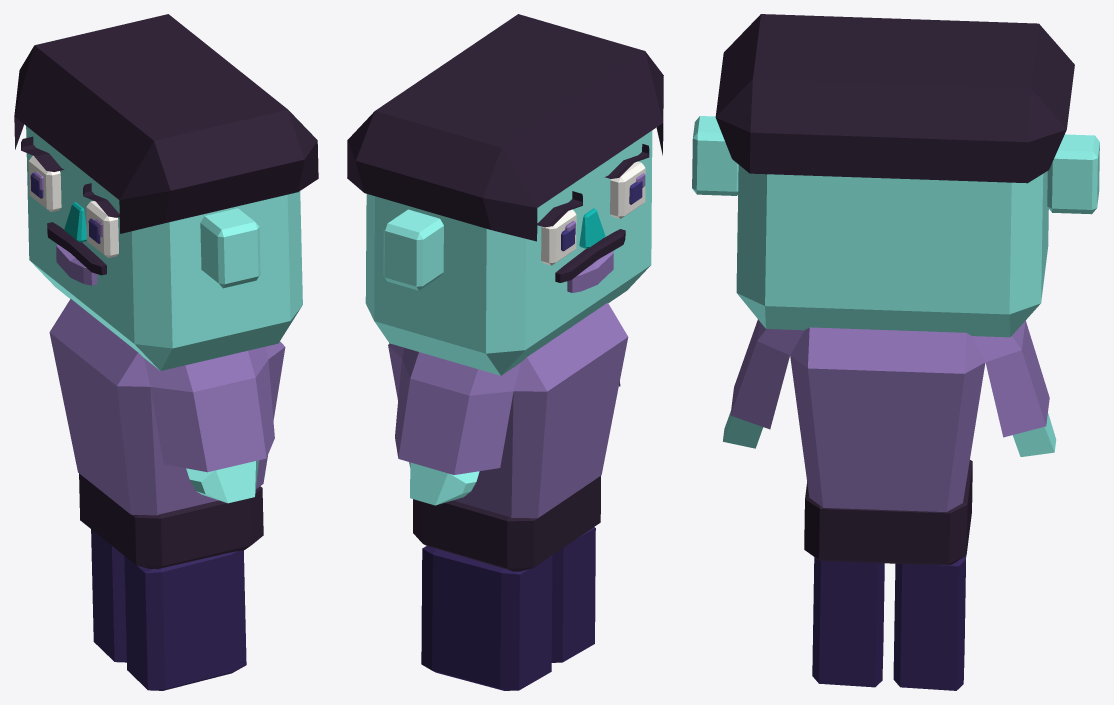
File: boycolored.fbx
The picture shows the model from 3 angles, left to right: view 1: azimuth 30°, elevation 25°; view 2: azimuth 150°, elevation 25°; view 3: azimuth 270°, elevation 25°; orthographic projection. The views are drawn at different scales.
Parts seen in each view (by area): view 1: pCube273.005; view 2: pCube273.005; view 3: pCube273.005.
Part boxes in pixels (x1,y1,x2,y2): pCube273.005: (14, 14, 318, 690); pCube273.005: (347, 14, 663, 690); pCube273.005: (692, 14, 1099, 690).
Bounding box in the file's own units: 218 × 613 × 367.
